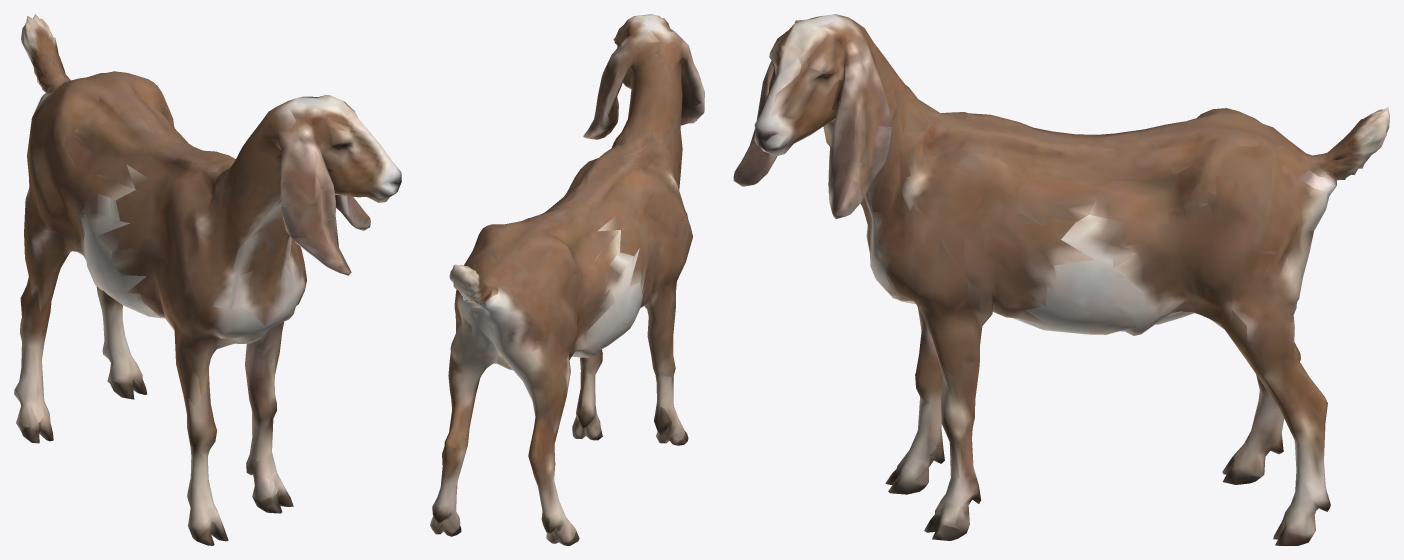
Rendered from goat.glb.
The picture shows the model from 3 angles, left to right: view 1: azimuth 30°, elevation 25°; view 2: azimuth 150°, elevation 25°; view 3: azimuth 270°, elevation 25°; orthographic projection. The views are drawn at different scales.
Parts seen in each view (by area): view 1: LO.001; view 2: LO.001; view 3: LO.001.
Boxes of the visible parts, left/top/right/bottom form: LO.001: left=14, top=14, right=401, bottom=545; LO.001: left=430, top=14, right=704, bottom=545; LO.001: left=733, top=14, right=1389, bottom=545.
Bounding box in the file's own units: 0.4329 × 1.11 × 1.3.
Materials: 1 (1 with a texture image).
